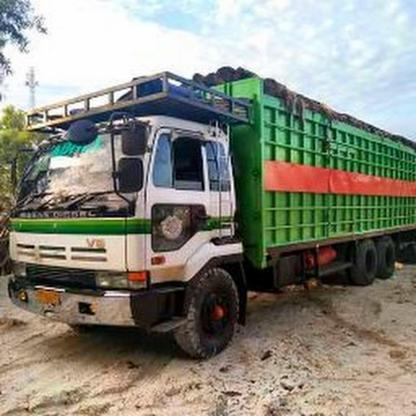truck: (8, 66, 416, 360)
